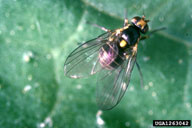Trifoli: (60, 8, 165, 110)
